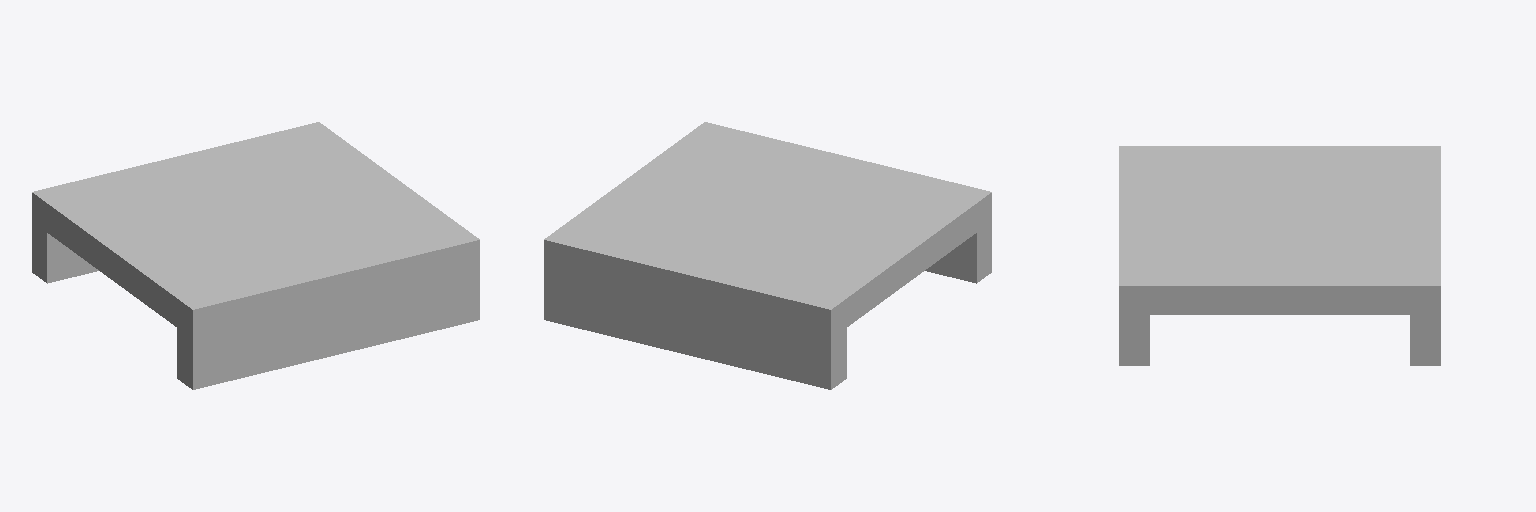
Rendered from woodmill_part.obj.
3 views of the same model, side by side, from view 1: azimuth 30°, elevation 25°; view 2: azimuth 150°, elevation 25°; view 3: azimuth 270°, elevation 25° (orthographic).
Visible parts, largest first — view 1: woodmill_part; view 2: woodmill_part; view 3: woodmill_part.
Boxes of the visible parts, <box> form: woodmill_part: <box>32,122,479,389</box>; woodmill_part: <box>544,122,991,389</box>; woodmill_part: <box>1119,146,1440,365</box>.
Size of the model in its own units: 0.9807 by 0.2616 by 0.9523.